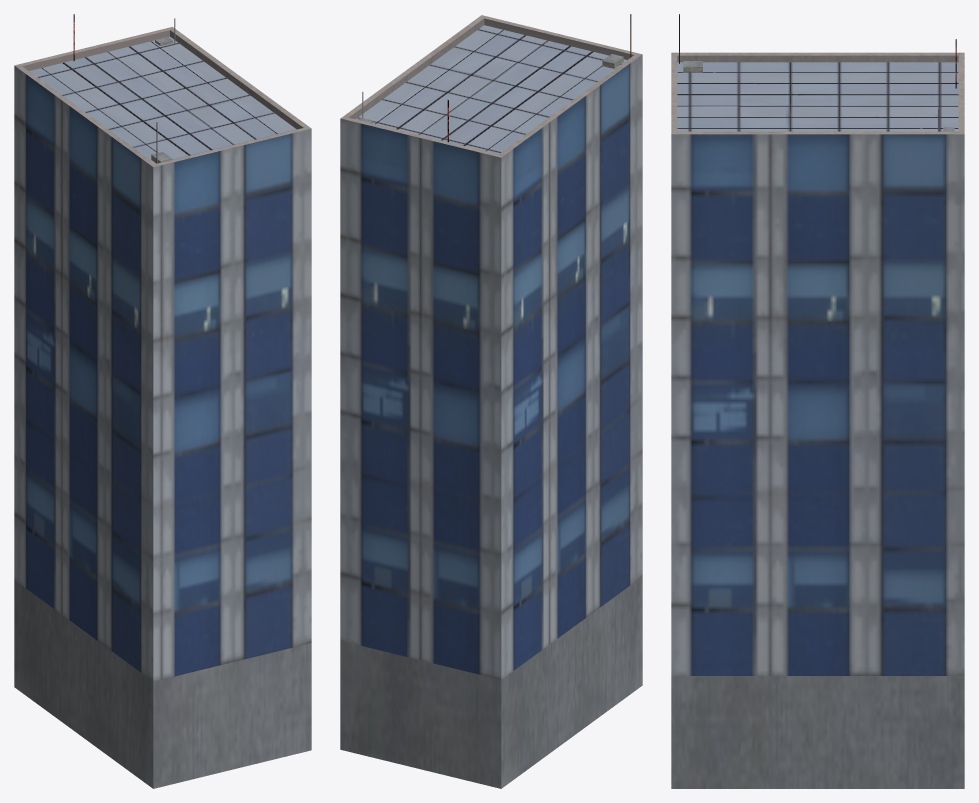
File: Building 3.fbx
3 renders of one model, left to right at view 1: azimuth 30°, elevation 25°; view 2: azimuth 150°, elevation 25°; view 3: azimuth 270°, elevation 25°, orthographic. The views are drawn at different scales.
Parts seen in each view (by area): view 1: Box081; view 2: Box081; view 3: Box081.
Part boxes in pixels (bbox=[...]): Box081: bbox=[14, 14, 311, 788]; Box081: bbox=[340, 14, 642, 788]; Box081: bbox=[671, 14, 964, 788].
Size of the model in its own units: 712 by 2843 by 1083.
